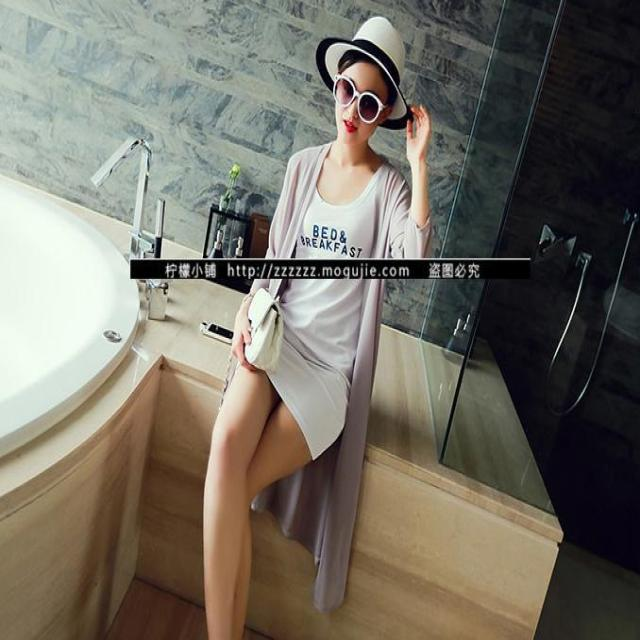long-sleeve-dress: (269, 132, 420, 631)
